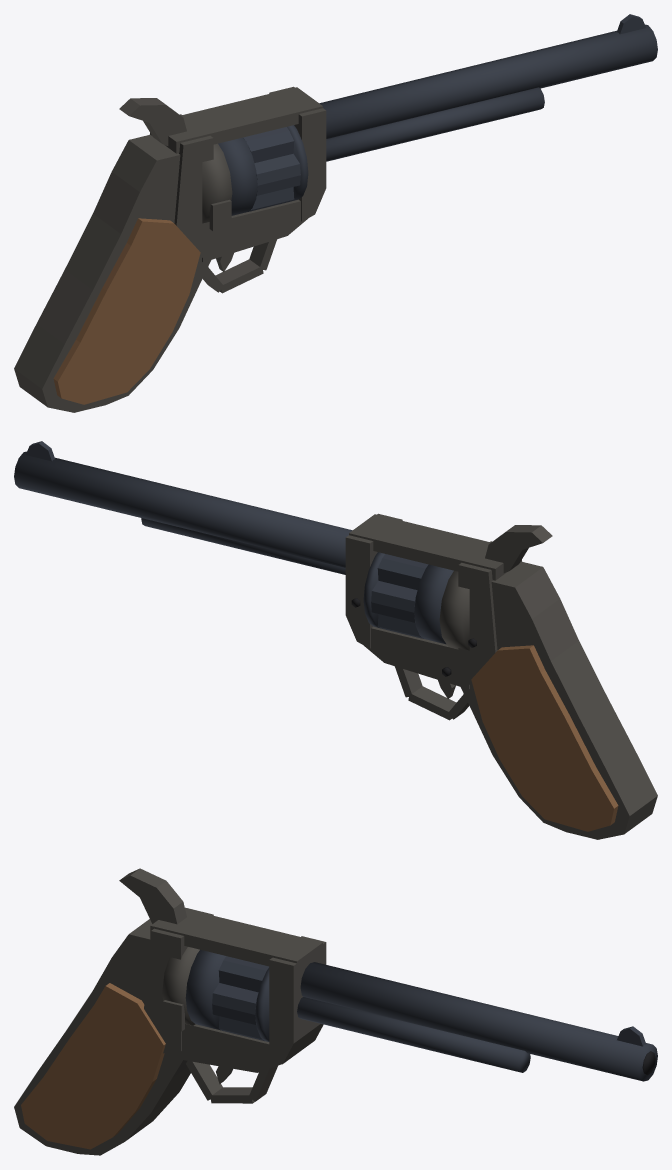
File: colt_saa_reference.fbx
3 views of the same model, one above another, from view 1: azimuth 30°, elevation 25°; view 2: azimuth 150°, elevation 25°; view 3: azimuth 330°, elevation 25° (orthographic).
Parts seen in each view (by area): view 1: grip_frame, grip_wood, barrel, ejector_housing, frame_topstrap, cylinder_fluted, frame_rear, frame_lower, frame_front, cylinder_rear_band, hammer, recoil_shield (+3 smaller); view 2: grip_frame, grip_wood, barrel, frame_topstrap, cylinder_fluted, frame_rear, frame_lower, frame_front, cylinder_rear_band, recoil_shield, hammer, ejector_housing (+2 smaller); view 3: grip_wood, barrel, grip_frame, ejector_housing, frame_topstrap, frame_front, cylinder_fluted, frame_lower, frame_rear, cylinder_rear_band, hammer, recoil_shield (+5 smaller).
Part boxes in pixels (x1=…): grip_frame: x1=14, y1=134, x2=211, y2=412; grip_wood: x1=53, y1=218, x2=200, y2=404; barrel: x1=319, y1=24, x2=657, y2=138; ejector_housing: x1=326, y1=87, x2=544, y2=161; frame_topstrap: x1=150, y1=87, x2=322, y2=153; cylinder_fluted: x1=243, y1=127, x2=300, y2=211; frame_rear: x1=150, y1=114, x2=213, y2=259; frame_lower: x1=202, y1=199, x2=307, y2=262; frame_front: x1=269, y1=86, x2=326, y2=221; cylinder_rear_band: x1=218, y1=137, x2=257, y2=215; hammer: x1=119, y1=98, x2=186, y2=145; recoil_shield: x1=202, y1=143, x2=232, y2=223; grip_frame: x1=460, y1=561, x2=657, y2=839; grip_wood: x1=471, y1=645, x2=618, y2=831; barrel: x1=14, y1=451, x2=352, y2=567; frame_topstrap: x1=349, y1=514, x2=521, y2=580; cylinder_fluted: x1=371, y1=554, x2=428, y2=638; frame_rear: x1=458, y1=541, x2=521, y2=686; frame_lower: x1=364, y1=626, x2=469, y2=689; frame_front: x1=345, y1=513, x2=402, y2=648; cylinder_rear_band: x1=414, y1=564, x2=453, y2=644; recoil_shield: x1=439, y1=570, x2=469, y2=650; hammer: x1=485, y1=525, x2=552, y2=572; ejector_housing: x1=141, y1=518, x2=345, y2=574; grip_wood: x1=21, y1=983, x2=165, y2=1149; barrel: x1=300, y1=962, x2=657, y2=1081; grip_frame: x1=14, y1=919, x2=190, y2=1155; ejector_housing: x1=297, y1=997, x2=530, y2=1072; frame_topstrap: x1=150, y1=909, x2=322, y2=972; frame_front: x1=269, y1=936, x2=326, y2=1064; cylinder_fluted: x1=212, y1=956, x2=268, y2=1041; frame_lower: x1=172, y1=1024, x2=279, y2=1072; frame_rear: x1=144, y1=907, x2=213, y2=1053; cylinder_rear_band: x1=185, y1=949, x2=225, y2=1030; hammer: x1=119, y1=868, x2=186, y2=924; recoil_shield: x1=162, y1=947, x2=199, y2=1025.
Bounding box in the file's own units: 0.3306 × 0.1435 × 0.045.
